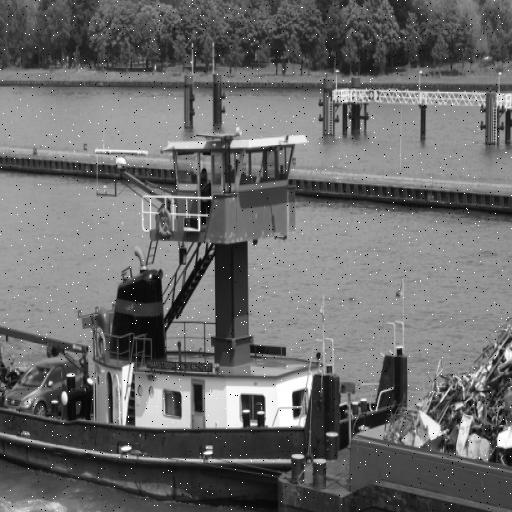tugboat: (1, 40, 419, 512)
